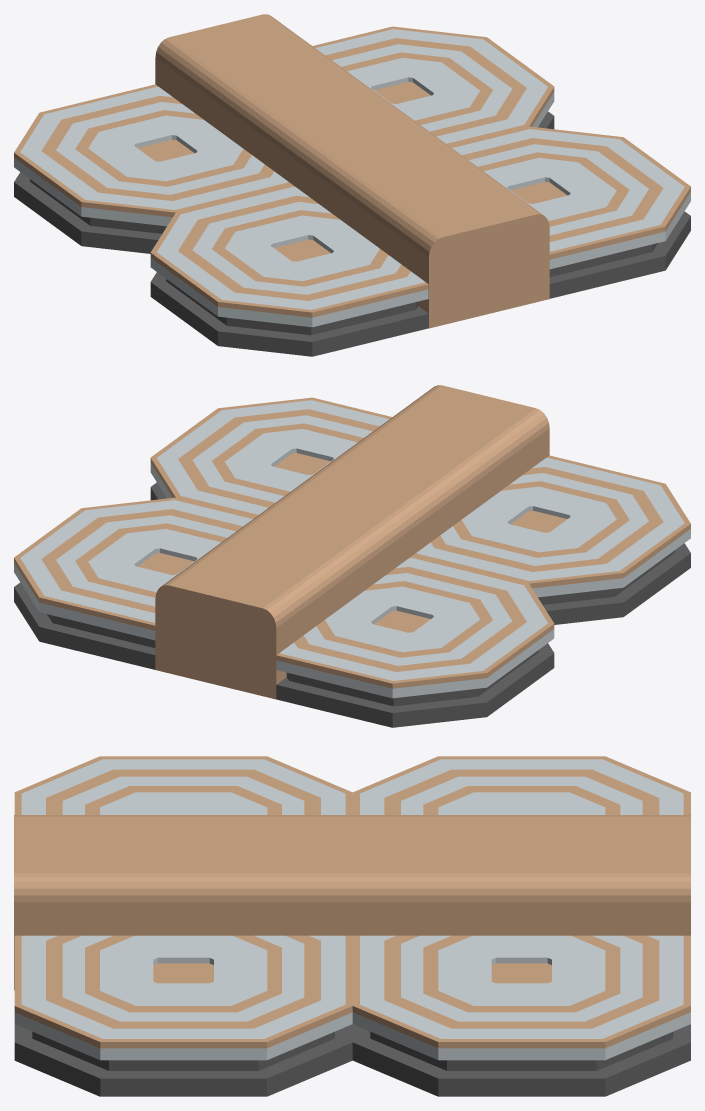
The picture shows the model from 3 angles, top to bottom: view 1: azimuth 30°, elevation 25°; view 2: azimuth 150°, elevation 25°; view 3: azimuth 270°, elevation 25°; orthographic projection. The views are drawn at different scales.
Visible parts, largest first — view 1: Куб.002; view 2: Куб.002; view 3: Куб.002.
Part boxes in pixels (<box>): Куб.002: <box>14,14,690,356</box>; Куб.002: <box>14,385,690,727</box>; Куб.002: <box>14,756,690,1096</box>.
Size of the model in its own units: 1400 by 249 by 1401.
